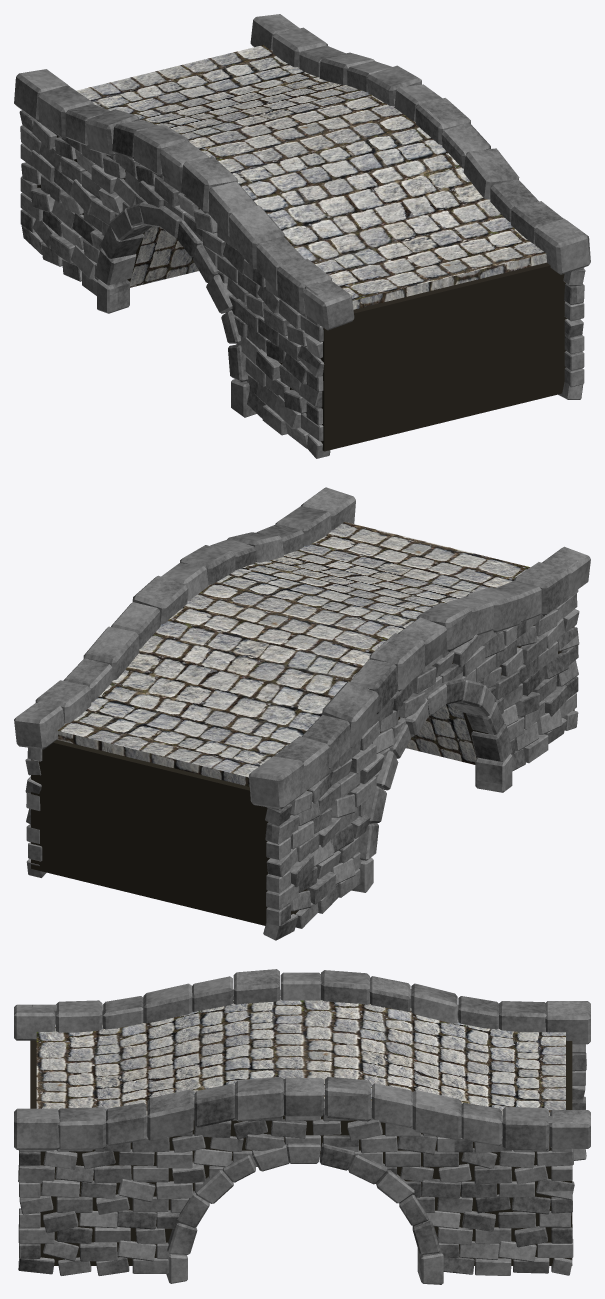
The model's file is Bridge.fbx.
3 views of the same model, one above another, from view 1: azimuth 30°, elevation 25°; view 2: azimuth 150°, elevation 25°; view 3: azimuth 270°, elevation 25° (orthographic). The views are drawn at different scales.
Visible parts, largest first — view 1: Bridge3; view 2: Bridge3; view 3: Bridge3.
Part boxes in pixels (x1,y1,x2,y2): Bridge3: (14,14,590,458); Bridge3: (14,487,590,940); Bridge3: (14,969,590,1284).
Size of the model in its own units: 998 by 733 by 1948.
3 materials, 2 textured.
